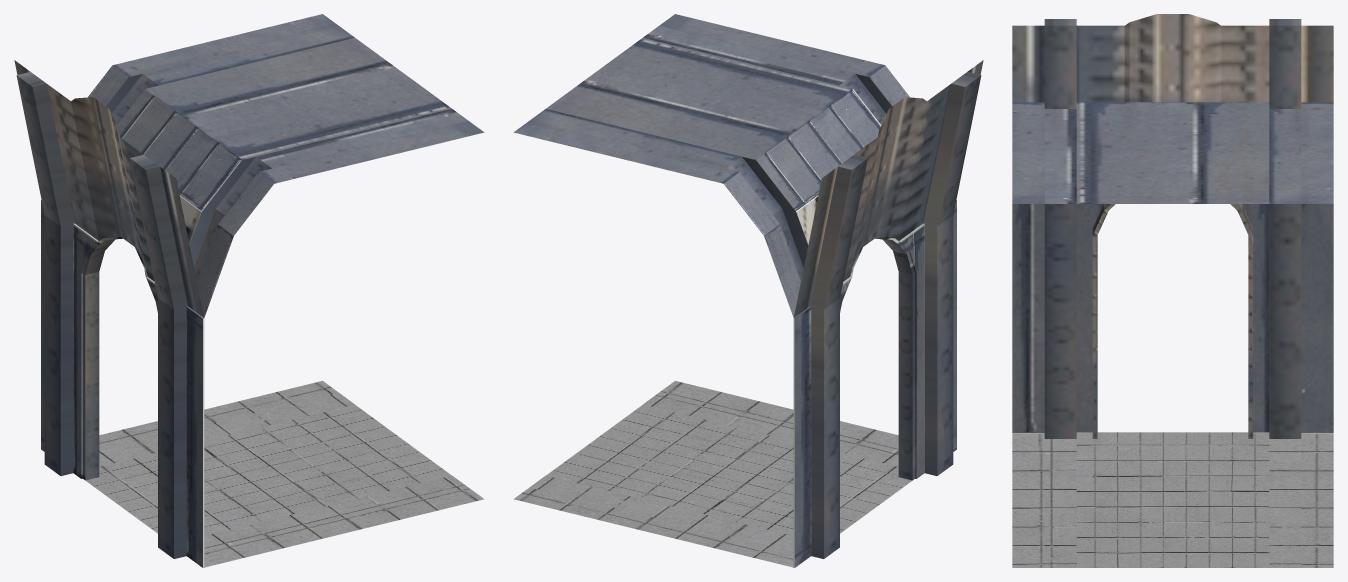
File: room_door.fbx
3 renders of one model, left to right at view 1: azimuth 30°, elevation 25°; view 2: azimuth 150°, elevation 25°; view 3: azimuth 270°, elevation 25°, orthographic.
Visible parts, largest first — view 1: Plane; view 2: Plane; view 3: Plane.
Part boxes in pixels (bbox=[...]): Plane: bbox=[14, 14, 484, 567]; Plane: bbox=[513, 14, 983, 567]; Plane: bbox=[1012, 14, 1333, 567].
Bounding box in the file's own units: 230 × 280 × 200.
